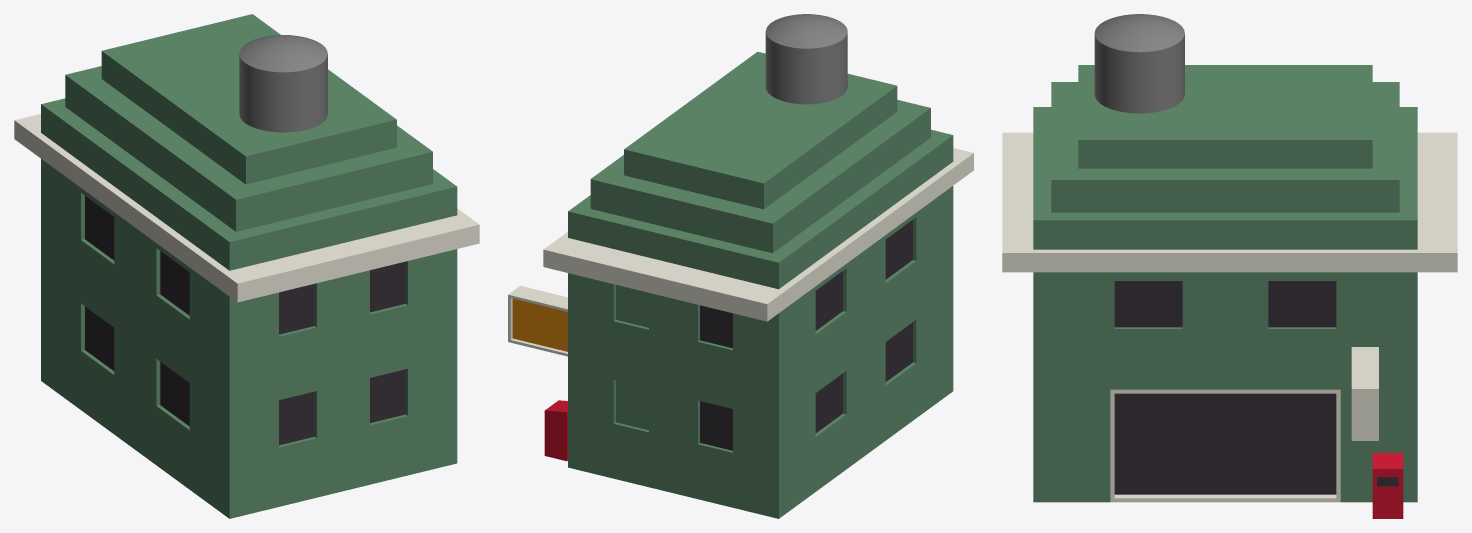
File: 建筑物2.fbx
3 views of the same model, side by side, from view 1: azimuth 30°, elevation 25°; view 2: azimuth 150°, elevation 25°; view 3: azimuth 270°, elevation 25° (orthographic). The views are drawn at different scales.
Visible parts, largest first — view 1: 桶1_1; view 2: 桶1_1; view 3: 桶1_1.
Part boxes in pixels (x1,y1,x2,y2): 桶1_1: (14, 14, 479, 518); 桶1_1: (508, 14, 973, 518); 桶1_1: (1002, 14, 1457, 518).
Bounding box in the file's own units: 831 × 1026 × 1009.
